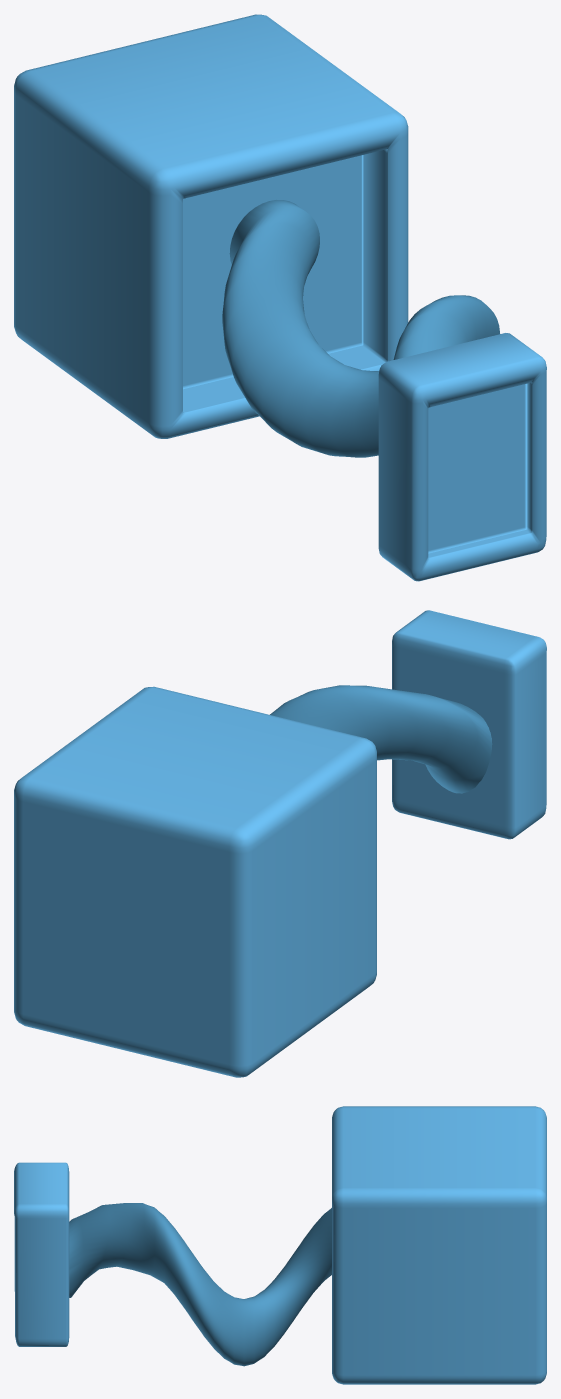
File: barrier-5.fbx
3 renders of one model, top to bottom at view 1: azimuth 30°, elevation 25°; view 2: azimuth 150°, elevation 25°; view 3: azimuth 270°, elevation 25°, orthographic. The views are drawn at different scales.
Visible parts, largest first — view 1: Cube.001, Cube, Circle; view 2: Cube.001, Cube, Circle; view 3: Cube.001, Circle, Cube.
Part boxes in pixels (x1,y1,x2,y2): Cube.001: (14,14,408,438); Cube: (378,333,546,581); Circle: (222,200,499,457); Cube.001: (14,686,376,1077); Cube: (392,610,546,839); Circle: (270,685,492,793); Cube.001: (332,1106,546,1384); Circle: (69,1203,331,1366); Cube: (14,1162,69,1346).
Bounding box in the file's own units: 93.89 × 97.1 × 233.
